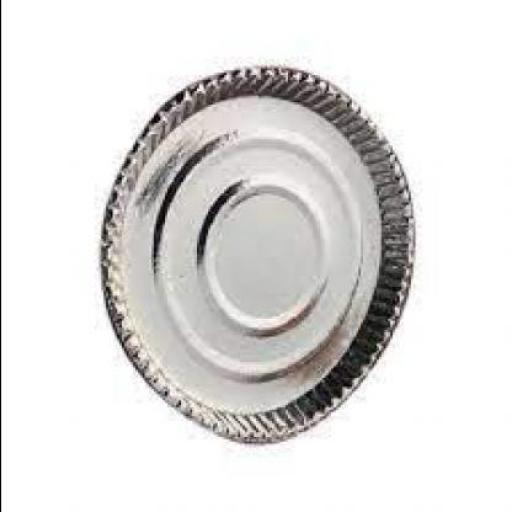metal: (102, 68, 416, 446)
